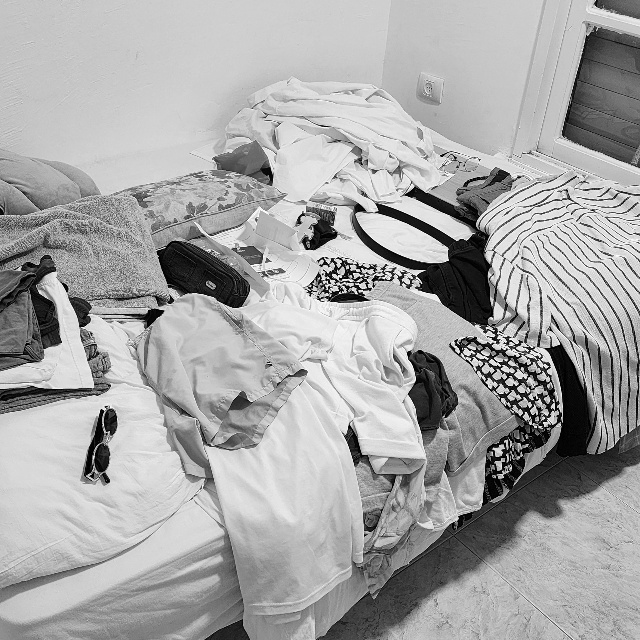glasses: (69, 399, 123, 491), (438, 148, 483, 174)
